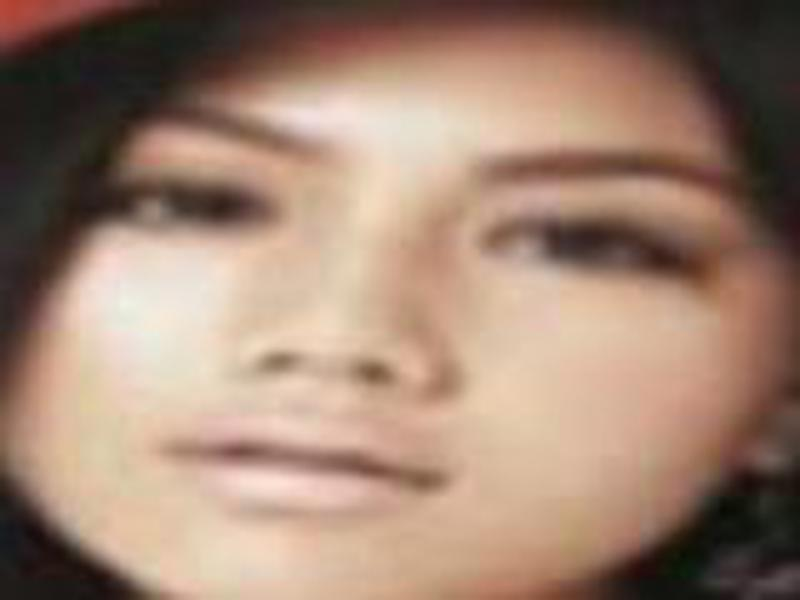without_mask: (7, 27, 792, 599)
